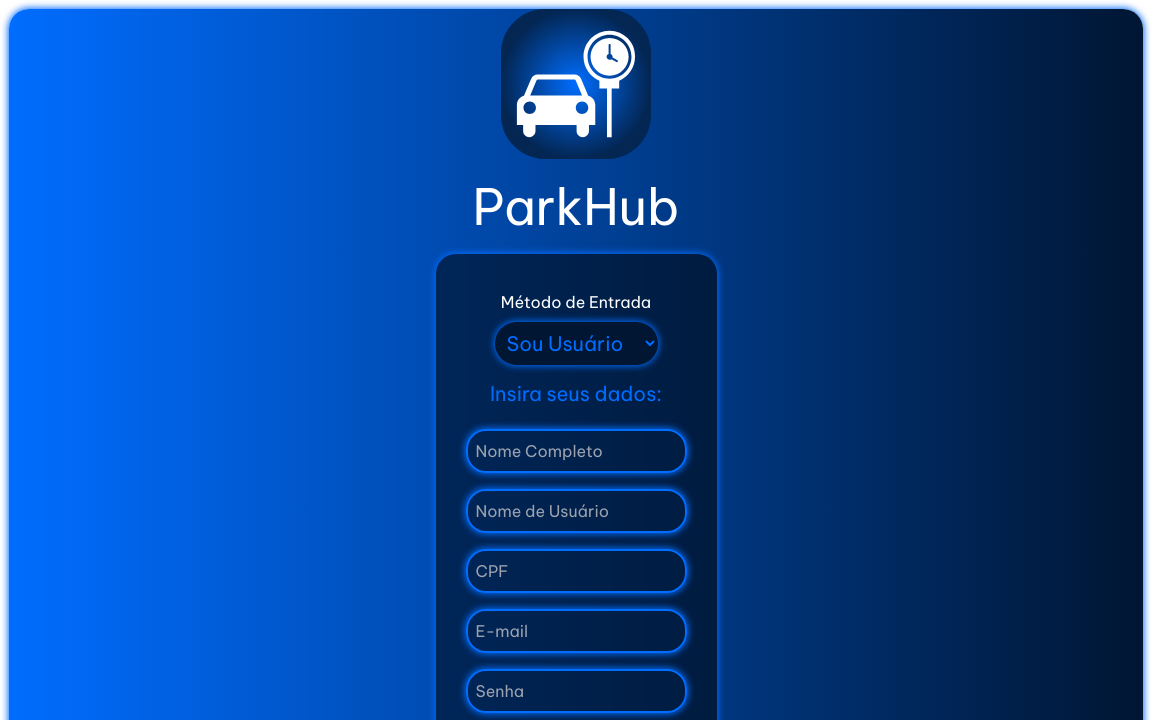
it: Register › deve alterar para empresa e mostrar campo CNPJ
Select "Sou Empresa" in the dropdown at coordinates (576, 344), box top-left (494, 322), bottom-right (658, 365)
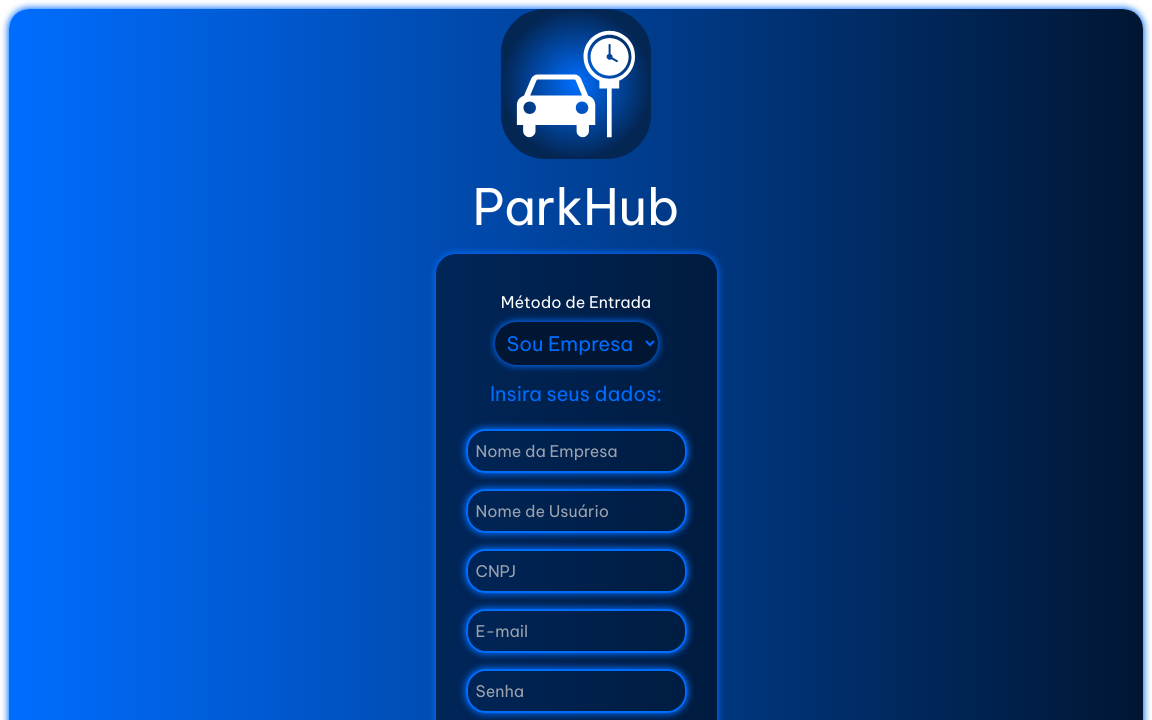
Now the field with placeholder "Nome da Empresa" is shown, box top-left (466, 429), bottom-right (686, 473)
Now the field with placeholder "CNPJ" is shown, box top-left (466, 549), bottom-right (686, 593)
